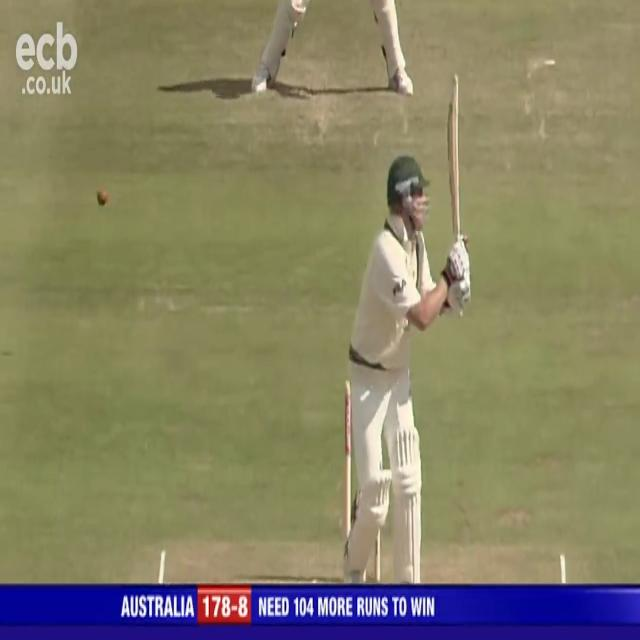ball: (94, 185, 112, 212)
